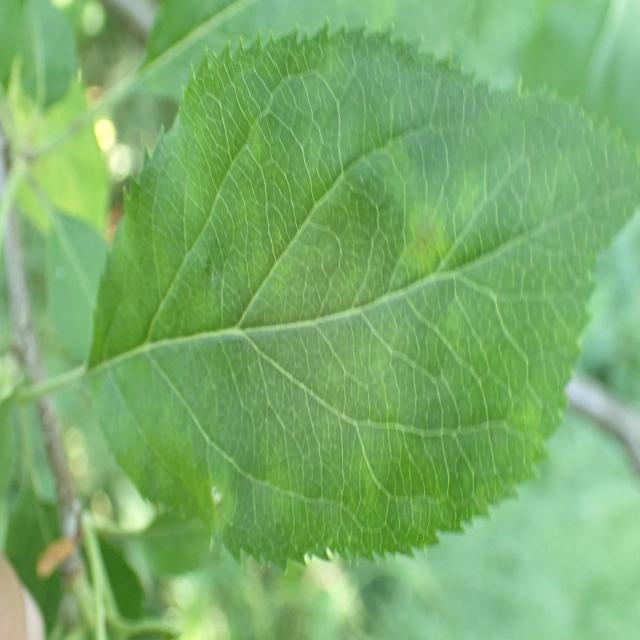scab: (119, 162, 539, 508)
